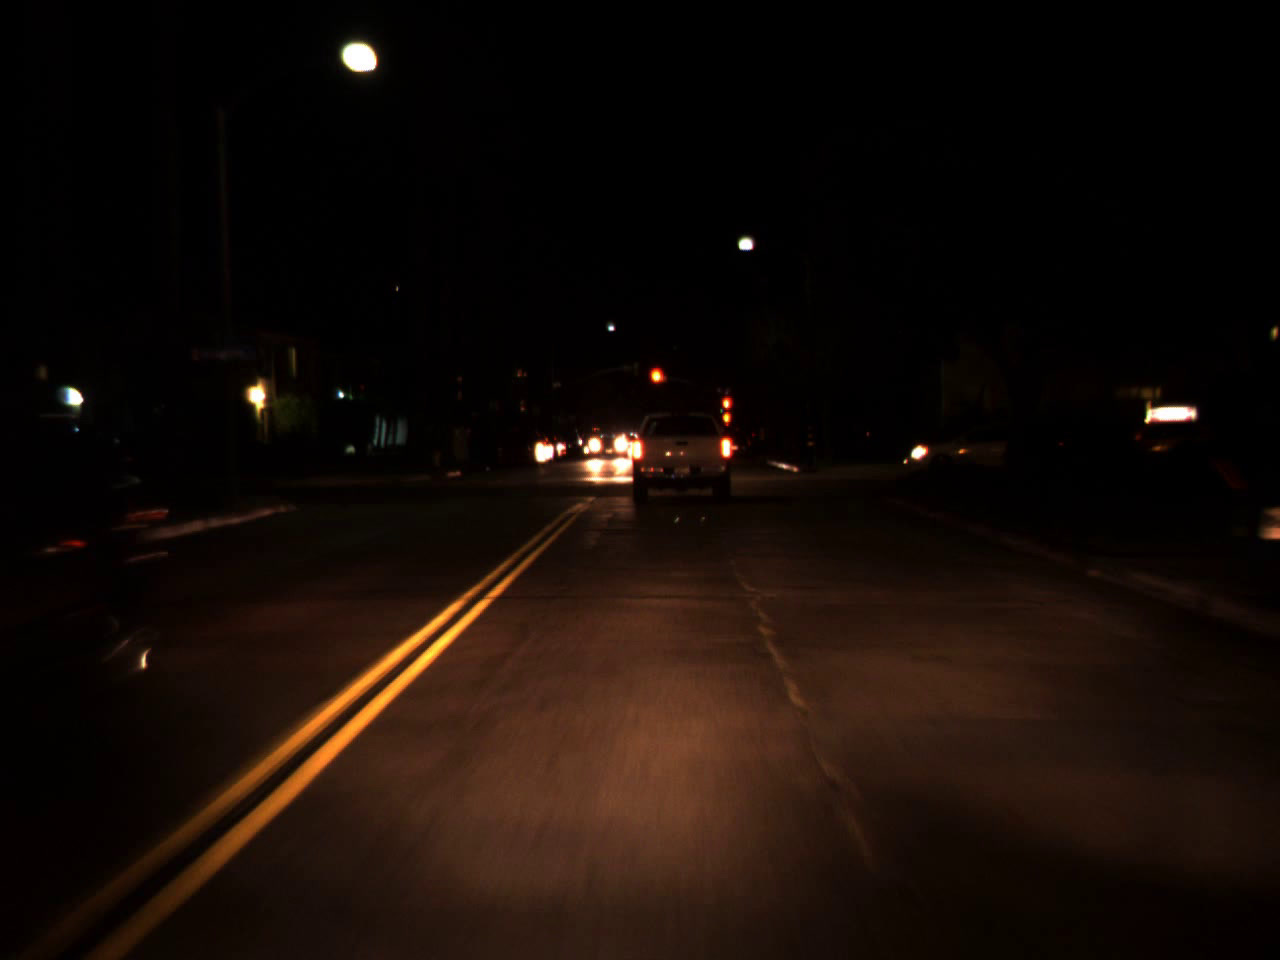stop: (648, 365, 666, 400), (721, 395, 733, 422)
